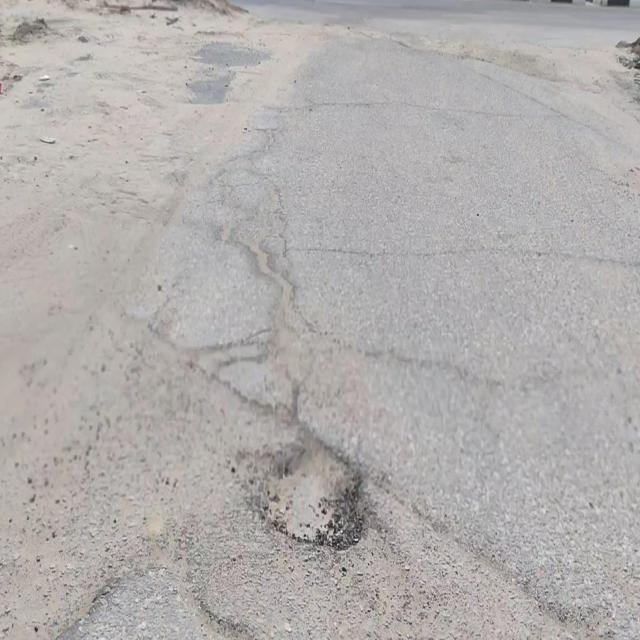Potholes: (229, 423, 372, 550)
